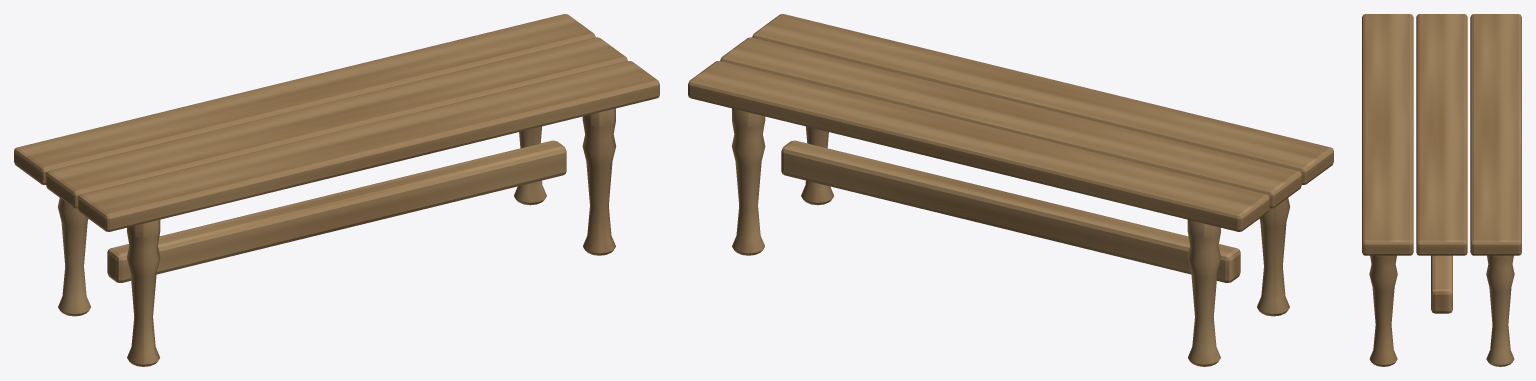
The model's file is bench.glb.
3 renders of one model, left to right at view 1: azimuth 30°, elevation 25°; view 2: azimuth 150°, elevation 25°; view 3: azimuth 270°, elevation 25°, orthographic. The views are drawn at different scales.
Visible parts, largest first — view 1: seat_0.001, seat_1.001, seat_2.001, stretcher.002, turned_leg.008, turned_leg.010, turned_leg.009, turned_leg.011; view 2: seat_2.001, seat_1.001, seat_0.001, stretcher.002, turned_leg.009, turned_leg.011, turned_leg.008, turned_leg.010; view 3: seat_1.001, seat_0.001, seat_2.001, turned_leg.010, turned_leg.011, stretcher.002.
Part boxes in pixels (left/top/right/bottom): seat_0.001: left=78, top=61, right=659, bottom=231; seat_1.001: left=46, top=37, right=627, bottom=208; seat_2.001: left=14, top=14, right=595, bottom=184; stretcher.002: left=107, top=140, right=566, bottom=282; turned_leg.008: left=127, top=219, right=160, bottom=366; turned_leg.010: left=582, top=108, right=616, bottom=255; turned_leg.009: left=58, top=198, right=90, bottom=316; turned_leg.011: left=514, top=126, right=546, bottom=205; seat_2.001: left=688, top=61, right=1269, bottom=231; seat_1.001: left=720, top=37, right=1301, bottom=208; seat_0.001: left=752, top=14, right=1333, bottom=184; stretcher.002: left=781, top=140, right=1240, bottom=282; turned_leg.009: left=1187, top=219, right=1220, bottom=366; turned_leg.011: left=731, top=108, right=765, bottom=255; turned_leg.008: left=1257, top=198, right=1289, bottom=316; turned_leg.010: left=801, top=126, right=833, bottom=205; seat_1.001: left=1416, top=14, right=1467, bottom=255; seat_0.001: left=1362, top=14, right=1413, bottom=255; seat_2.001: left=1470, top=14, right=1521, bottom=255; turned_leg.010: left=1369, top=255, right=1397, bottom=366; turned_leg.011: left=1486, top=255, right=1514, bottom=366; stretcher.002: left=1431, top=255, right=1452, bottom=313.
Size of the model in its own units: 1.6 by 0.46 by 0.472.
2 materials, 2 textured.
